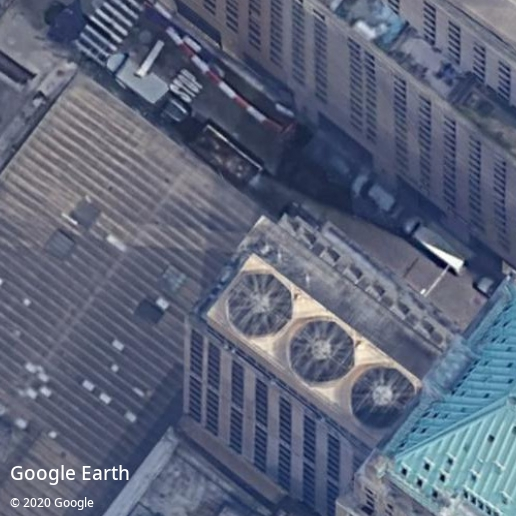Vent: (228, 272, 292, 338), (351, 367, 416, 429), (291, 320, 355, 381)
